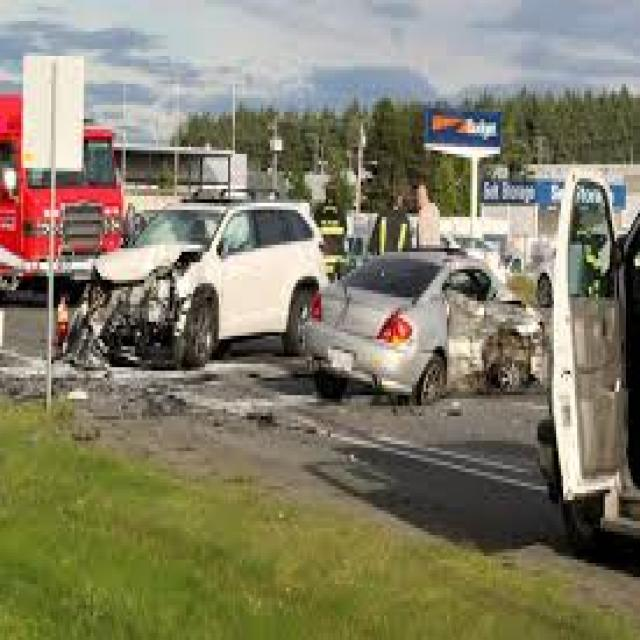accident: (309, 246, 546, 411), (84, 203, 308, 361)
